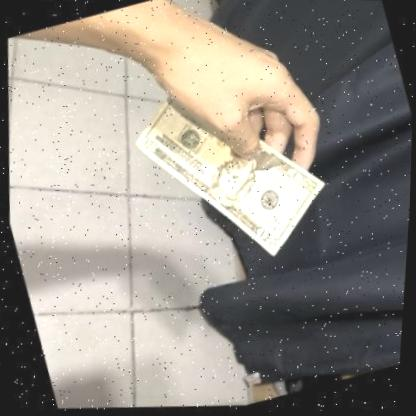twenty-front: (108, 56, 352, 297)
